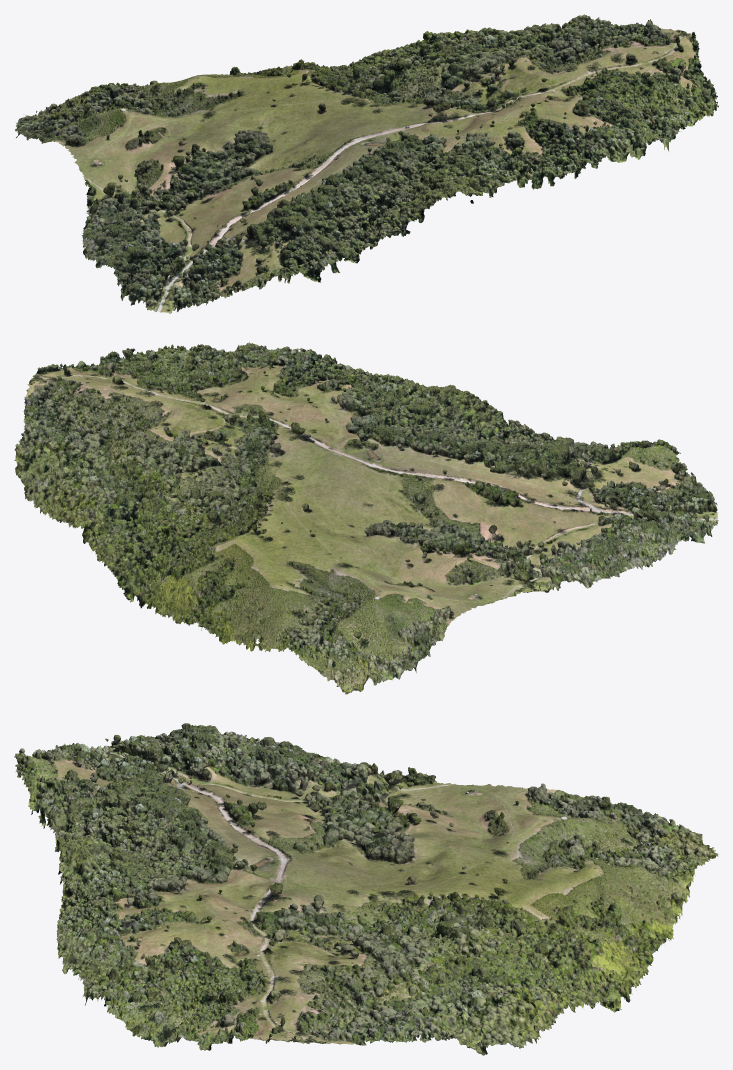
The model's file is rpab_web.glb.
3 renders of one model, top to bottom at view 1: azimuth 30°, elevation 25°; view 2: azimuth 150°, elevation 25°; view 3: azimuth 270°, elevation 25°, orthographic. The views are drawn at different scales.
Size of the model in its own units: 865 by 126 by 684.
1 material, 1 textured.
